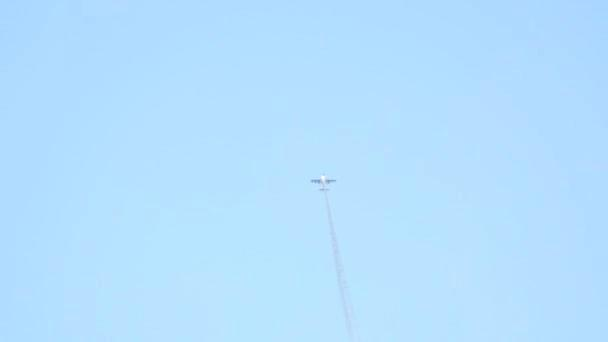Plane: (298, 168, 348, 198)
